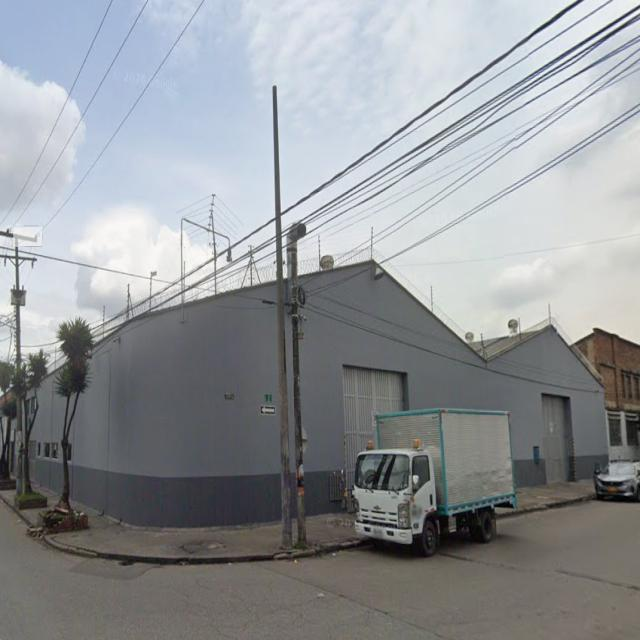fachada: (300, 261, 607, 514), (577, 329, 639, 460)
poste: (273, 86, 292, 549), (287, 242, 306, 547), (15, 240, 21, 372), (210, 195, 216, 294), (181, 220, 184, 323), (127, 284, 130, 319), (318, 236, 321, 265), (250, 246, 252, 286), (371, 227, 373, 260), (103, 306, 105, 338), (431, 286, 433, 311)
